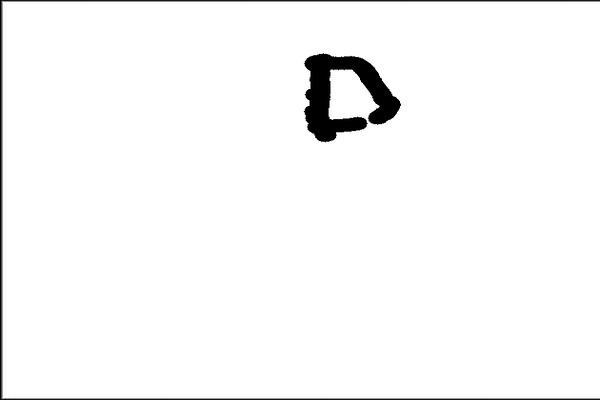D: (294, 50, 404, 145)
